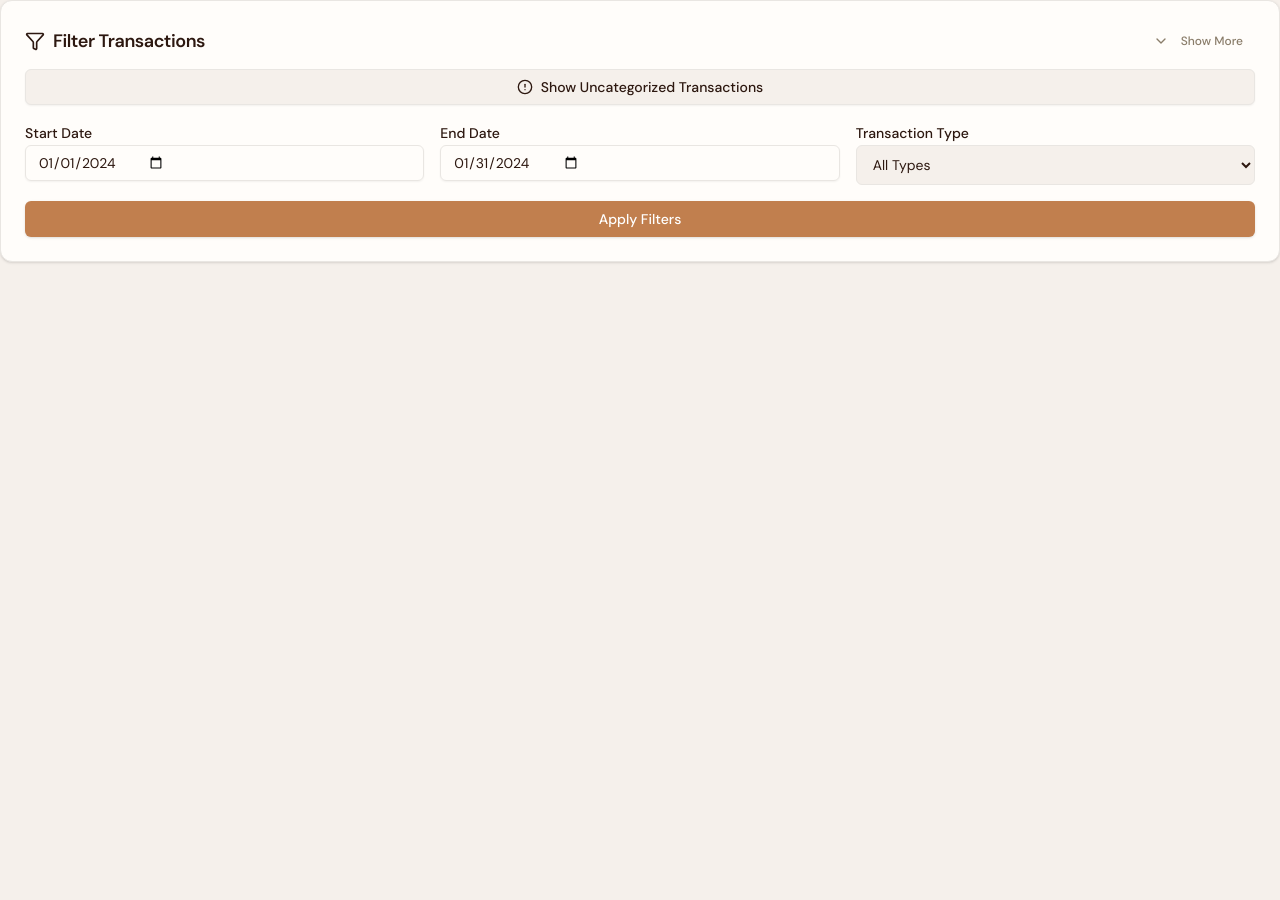
Test case: TransactionFilters › Filter Expansion › should collapse filters when show less button is clicked
The width and height of the screenshot is (1280, 900).
# First expand
Click the button "Show More": (1198, 41) left=1141, top=25, right=1255, bottom=57
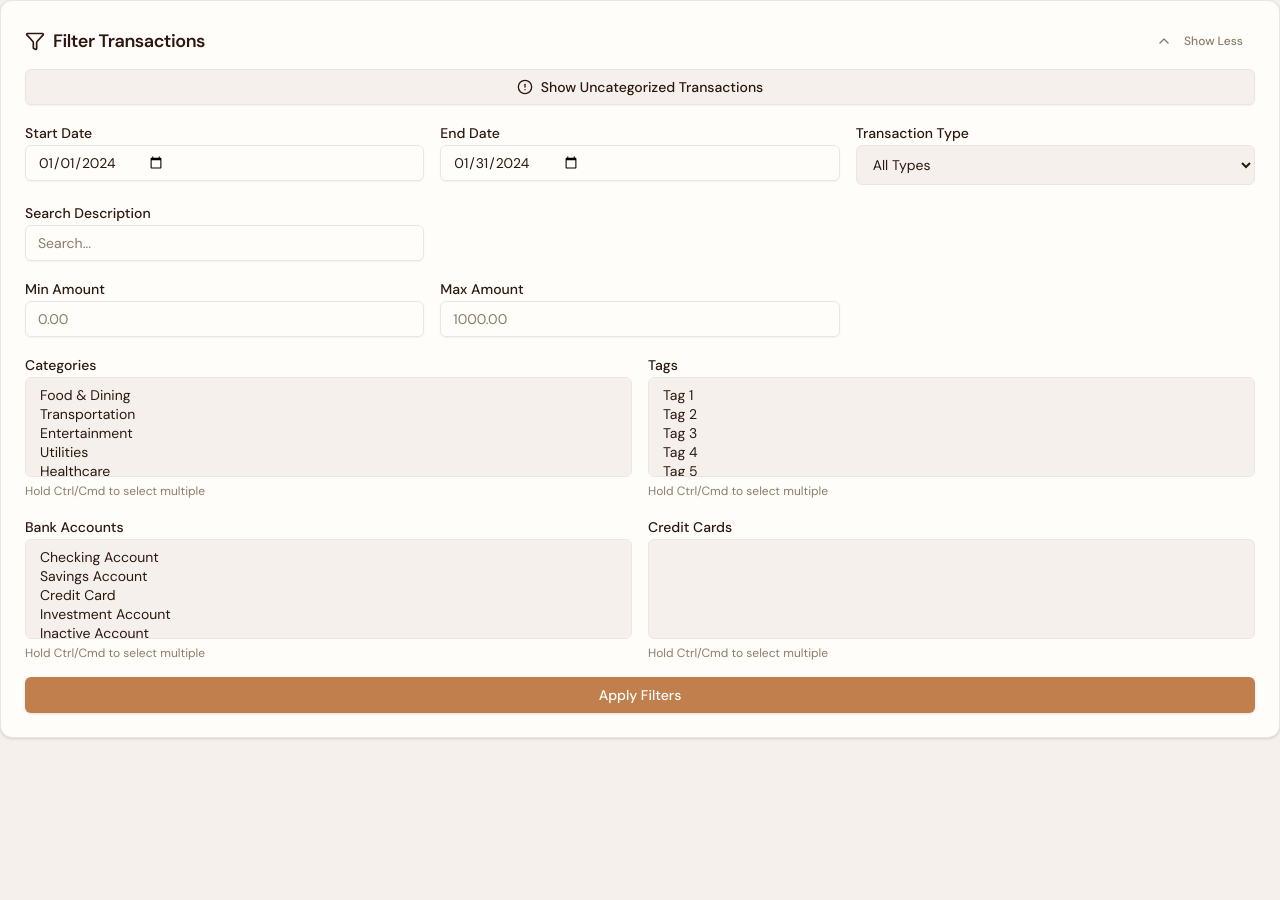
# Then collapse
Click the button "Show Less": (1200, 41) left=1144, top=25, right=1255, bottom=57
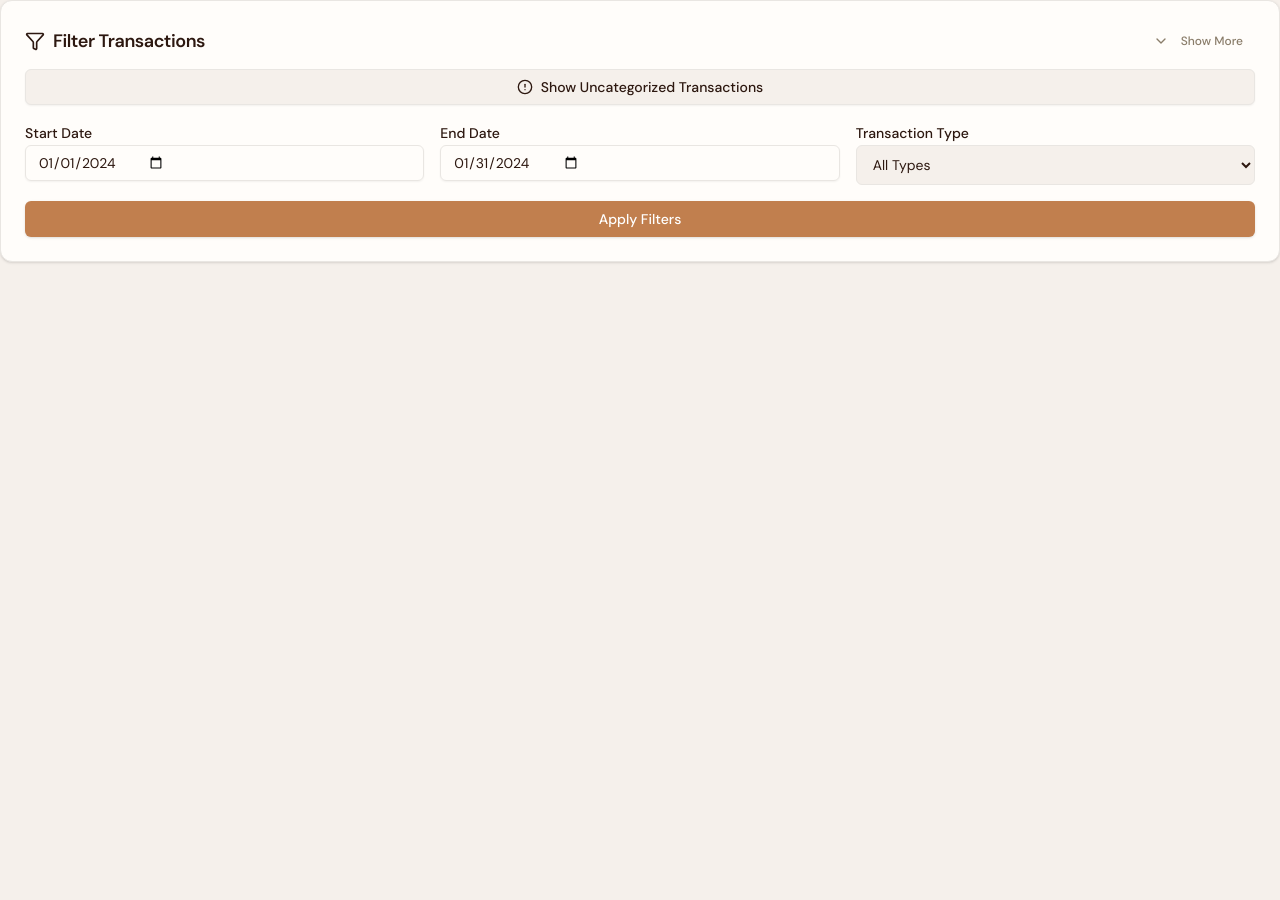
Now the label labelled "Min Amount" is gone
